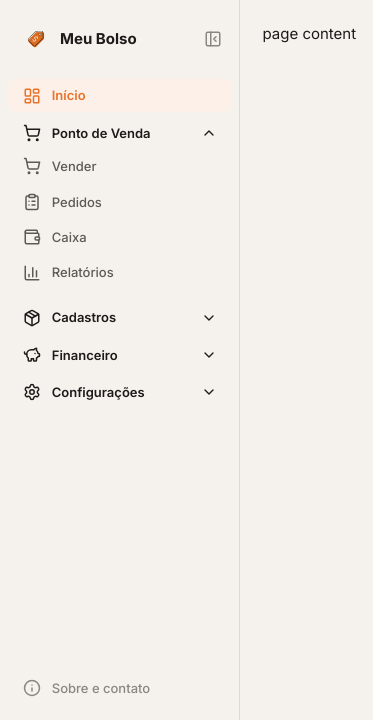
it: AppShell sidebar collapse › collapses the sidebar keeping the navigation reachable
Click the button named "Recolher menu": coordinates (213, 39) [198,24,228,54]
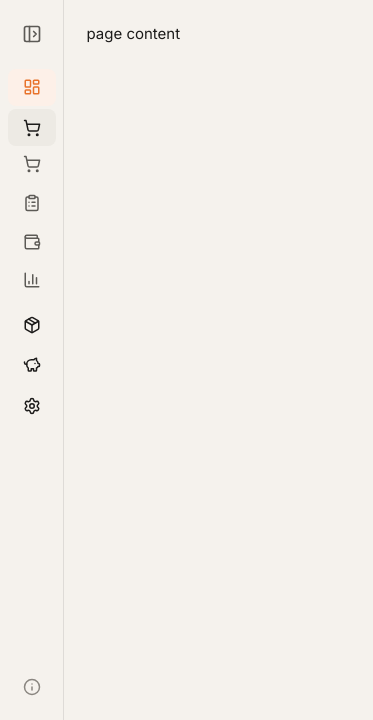
Expected: the link named "Vender" is shown, [8,146,56,183]
Expected: the text "Meu Bolso" is gone
Expected: the button named "Expandir menu" is shown, [8,15,56,54]
